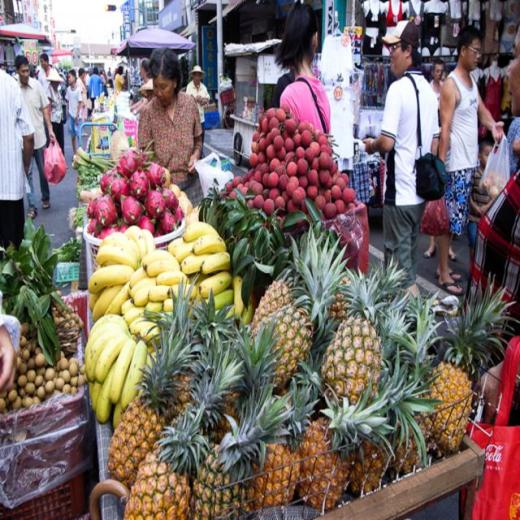Banana: (85, 222, 255, 426), (83, 308, 146, 430)
Mango: (106, 220, 520, 520), (105, 224, 520, 520), (107, 361, 192, 472)
